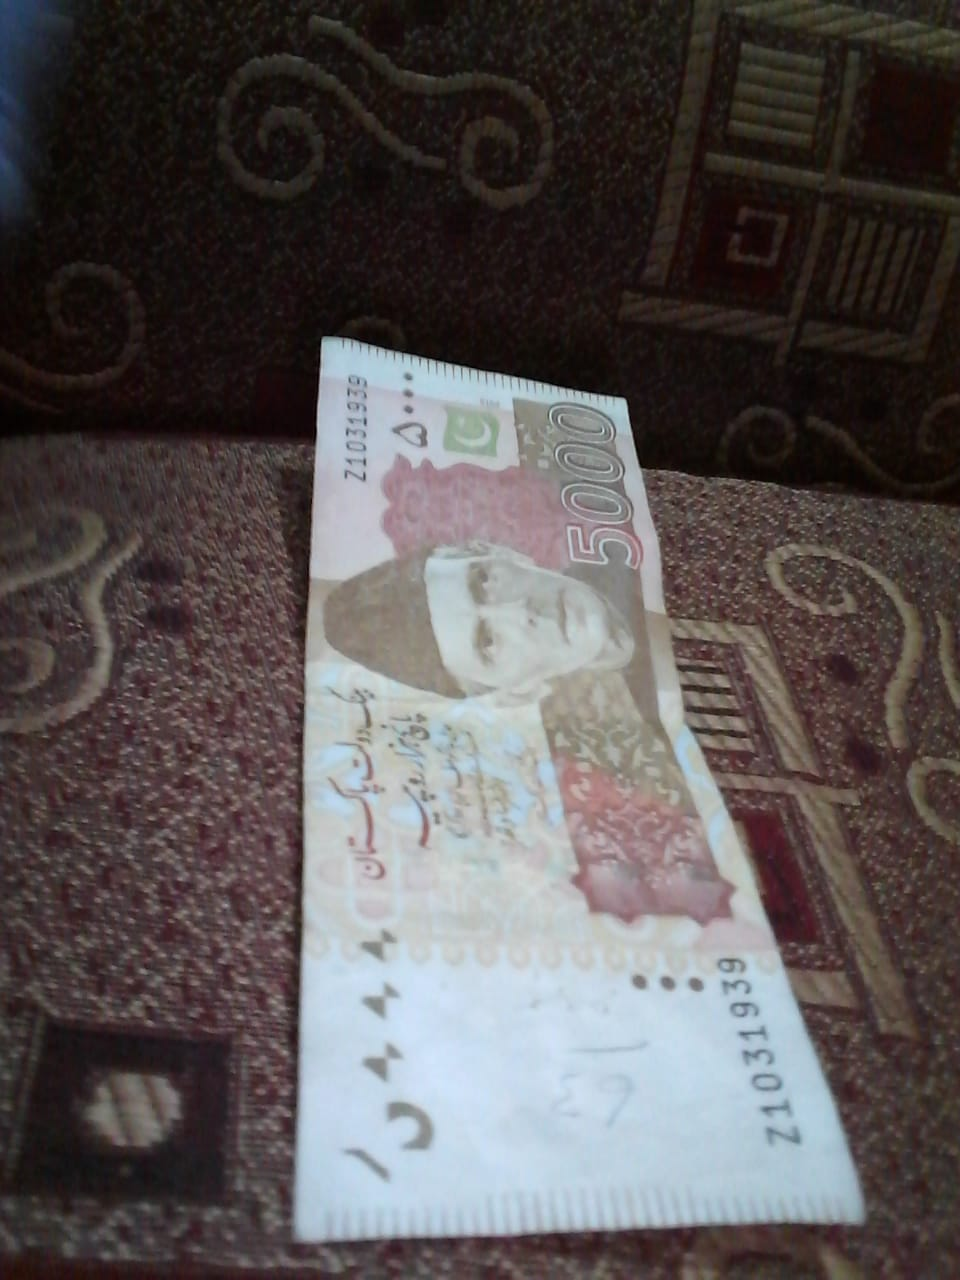5000 rupee: (257, 305, 861, 1261)
